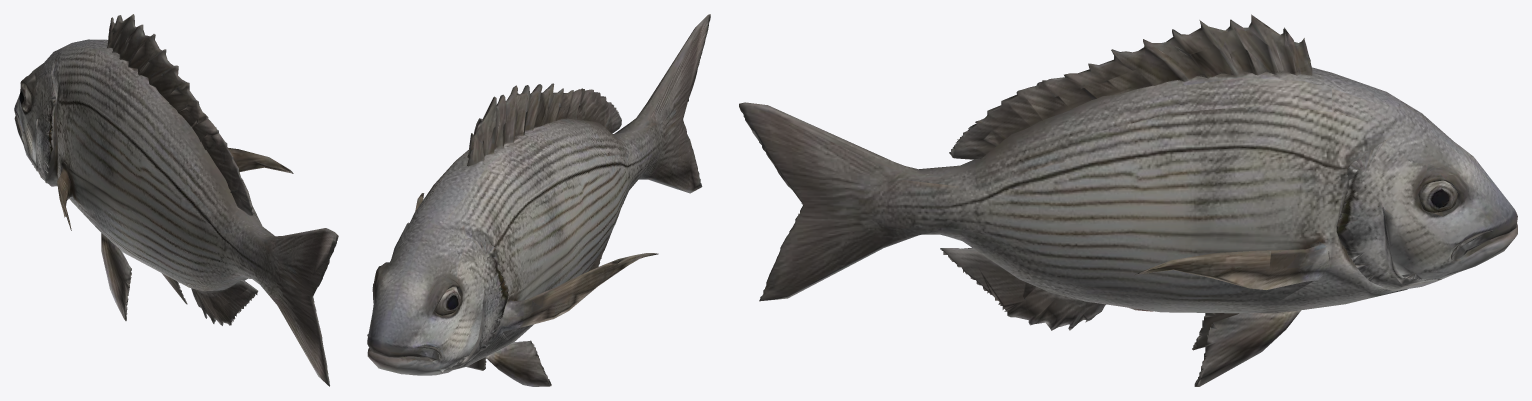
File: zeebrasem.glb
3 views of the same model, side by side, from view 1: azimuth 30°, elevation 25°; view 2: azimuth 150°, elevation 25°; view 3: azimuth 270°, elevation 25° (orthographic). The views are drawn at different scales.
Visible parts, largest first — view 1: tripo_node_47193a3c-62cf-4fe2-aea1-b713db1a505e; view 2: tripo_node_47193a3c-62cf-4fe2-aea1-b713db1a505e; view 3: tripo_node_47193a3c-62cf-4fe2-aea1-b713db1a505e.
Boxes of the visible parts, <box> form: tripo_node_47193a3c-62cf-4fe2-aea1-b713db1a505e: <box>14,14,338,386</box>; tripo_node_47193a3c-62cf-4fe2-aea1-b713db1a505e: <box>367,14,710,386</box>; tripo_node_47193a3c-62cf-4fe2-aea1-b713db1a505e: <box>739,14,1517,386</box>.
Bounding box in the file's own units: 0.2463 × 0.3 × 0.5965.
Materials: 1 (1 with a texture image).
